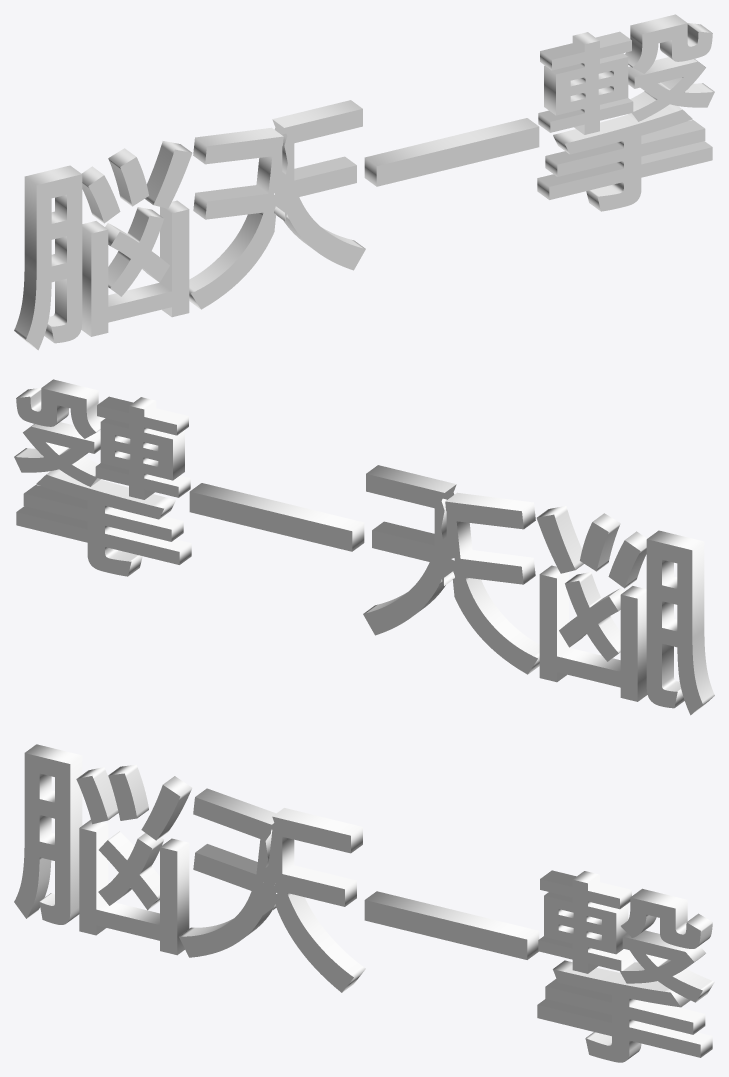
The model's file is Title.obj.
3 views of the same model, one above another, from view 1: azimuth 30°, elevation 25°; view 2: azimuth 150°, elevation 25°; view 3: azimuth 330°, elevation 25° (orthographic).
Parts seen in each view (by area): view 1: テキスト.001; view 2: テキスト.001; view 3: テキスト.001.
Part boxes in pixels (x1,y1,x2,y2): テキスト.001: (14,14,714,350); テキスト.001: (14,379,714,715); テキスト.001: (14,744,714,1062).
Size of the model in its own units: 3.98 by 0.9541 by 0.12.
2 materials, 2 textured.
